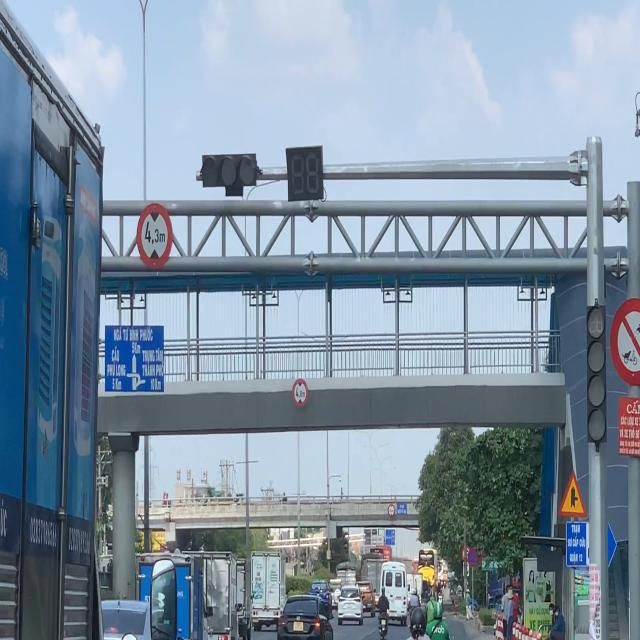Cam con lai: (610, 298, 640, 382)
Cam dung va do: (468, 548, 478, 567)
Chieu cao toi da: (137, 202, 173, 268), (292, 378, 308, 408), (388, 504, 395, 517)
Giao voi duong khong uu tien: (558, 470, 588, 517)
